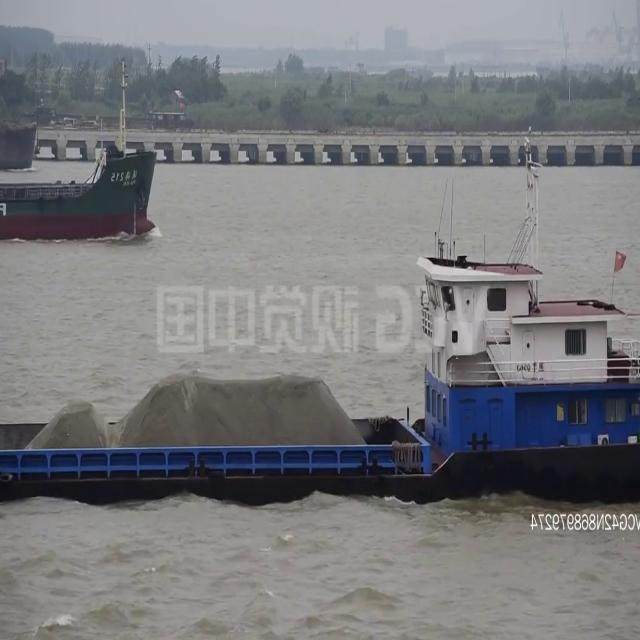cargoship: (9, 210, 640, 526)
